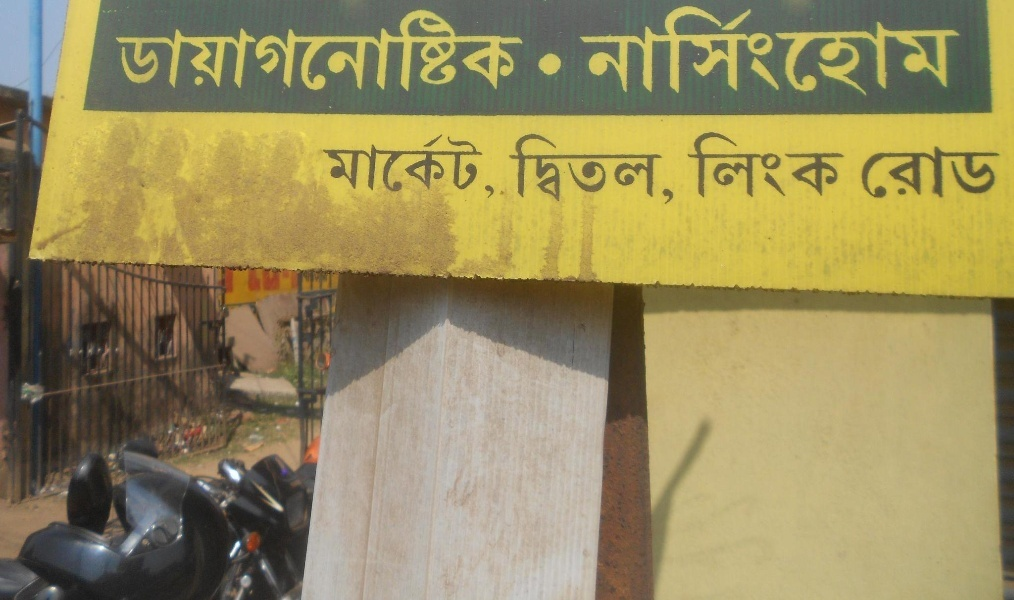text: (577, 5, 592, 100), (593, 5, 608, 100), (609, 5, 624, 100), (625, 5, 640, 100), (641, 5, 656, 100), (657, 5, 672, 100), (673, 5, 688, 100), (689, 5, 704, 100), (705, 5, 720, 100), (721, 5, 736, 100), (737, 5, 752, 100), (753, 5, 768, 100), (769, 5, 784, 100), (785, 5, 800, 100), (801, 5, 816, 100), (817, 5, 832, 100), (833, 5, 848, 100), (849, 5, 864, 100), (865, 5, 880, 100), (881, 5, 896, 100), (897, 5, 912, 100), (913, 5, 928, 100), (929, 5, 944, 100), (945, 5, 960, 100), (129, 5, 144, 98), (145, 5, 160, 98), (161, 5, 176, 98), (177, 5, 192, 98), (193, 5, 208, 98), (209, 5, 224, 98), (225, 5, 240, 98), (241, 5, 256, 98), (257, 5, 272, 98), (273, 5, 288, 98), (289, 5, 304, 98), (305, 5, 320, 98), (321, 5, 336, 98), (337, 5, 352, 98), (353, 5, 368, 98), (369, 5, 384, 98), (385, 5, 400, 98), (401, 5, 416, 98), (417, 5, 432, 98), (433, 5, 448, 98), (449, 5, 464, 98), (465, 5, 480, 98), (481, 5, 496, 98), (497, 5, 512, 98), (513, 5, 526, 98), (833, 131, 849, 203), (689, 131, 704, 203), (705, 131, 720, 203), (721, 131, 736, 203), (737, 131, 752, 203), (753, 131, 768, 203), (769, 131, 784, 203), (785, 131, 800, 203), (801, 131, 816, 203), (817, 131, 832, 203), (337, 130, 352, 201), (353, 130, 368, 201), (369, 130, 384, 201), (385, 130, 400, 201), (401, 130, 416, 201), (417, 130, 432, 201), (433, 130, 448, 201), (449, 130, 464, 201), (465, 130, 480, 201), (481, 130, 496, 201), (513, 134, 528, 205), (529, 134, 544, 205), (545, 134, 560, 205), (561, 134, 576, 205), (577, 134, 592, 205), (593, 134, 608, 205), (609, 134, 624, 205), (625, 134, 640, 205), (641, 134, 656, 205), (657, 134, 672, 205), (323, 130, 336, 201), (865, 145, 880, 201), (881, 145, 896, 201), (897, 145, 912, 201), (913, 145, 928, 201), (929, 145, 944, 201), (945, 145, 960, 201), (961, 145, 976, 201), (977, 145, 992, 201), (119, 5, 128, 98), (993, 145, 1006, 201), (961, 5, 964, 100), (508, 134, 512, 205), (673, 134, 676, 205), (574, 5, 576, 100), (862, 145, 864, 201), (497, 130, 498, 201)
